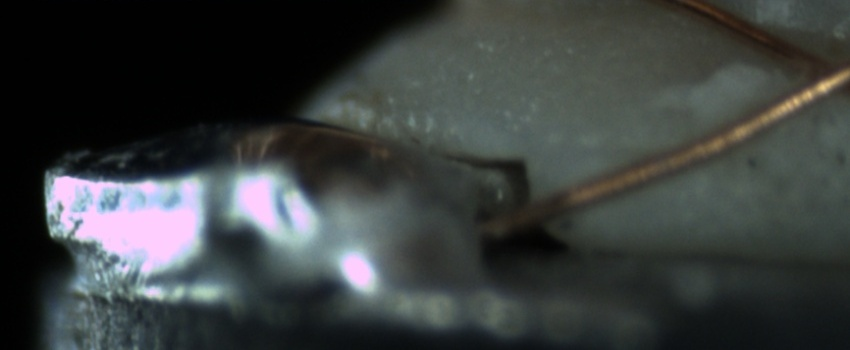CL: (767, 34, 848, 112)
